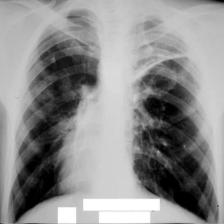tuberculosis: (4, 3, 224, 224)
